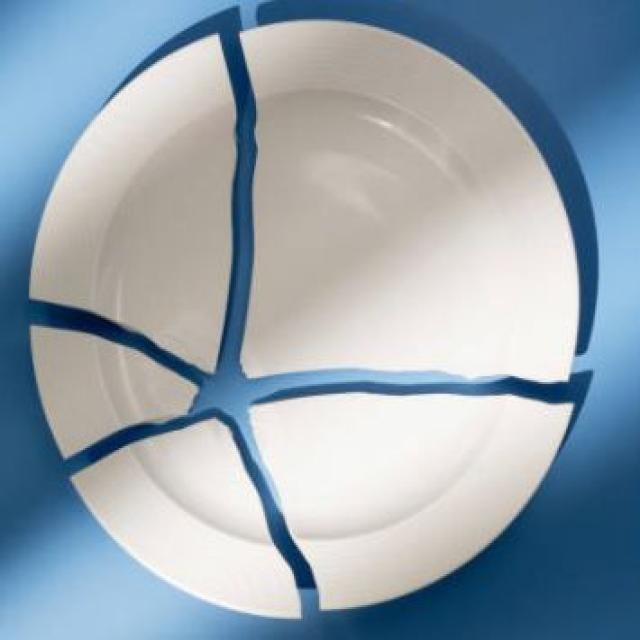electronic: (30, 20, 583, 620)
